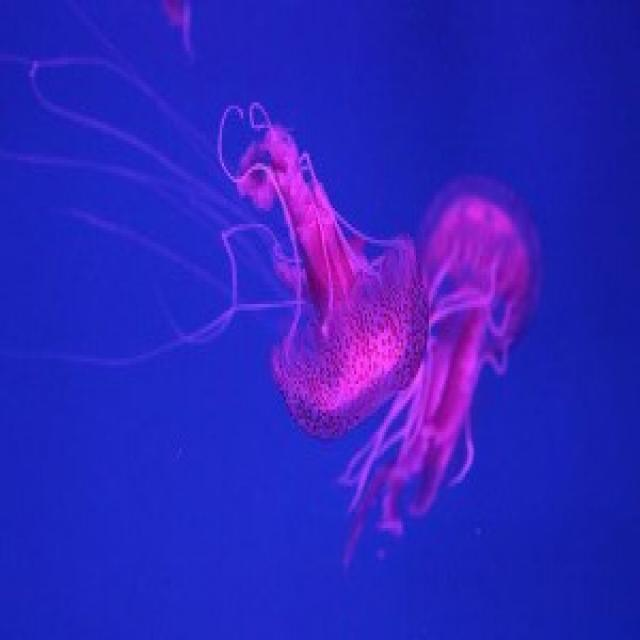Jellyfish: (222, 90, 419, 432), (424, 187, 547, 545)
